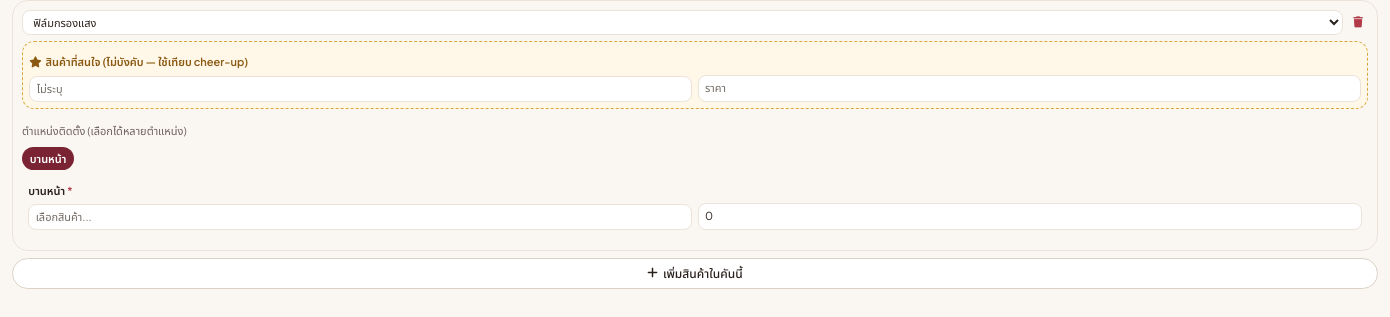
Test: ItemsSection product options › still offers a product only another branch stocks, marked as such
The width and height of the screenshot is (1390, 317).
Click the dropdown named "สินค้าประจำตำแหน่ง บานหน้า".
click(360, 217)  # box [28,204,692,230]
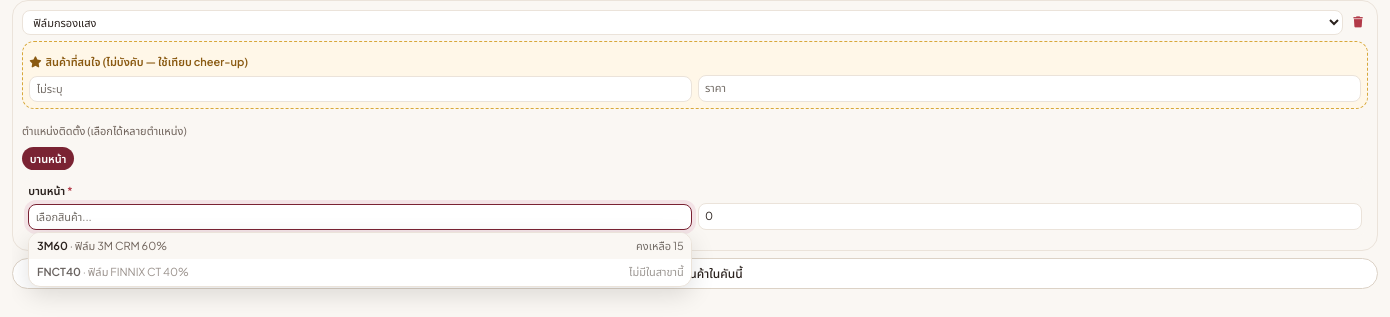
Expected: the option "3M60 · ฟิล์ม 3M CRM 60% คงเหลือ 15" is shown, [29,233,691,259]
Expected: the option "FNCT40 · ฟิล์ม FINNIX CT 40% ไม่มีในสาขานี้" is shown, [37,266,684,278]
